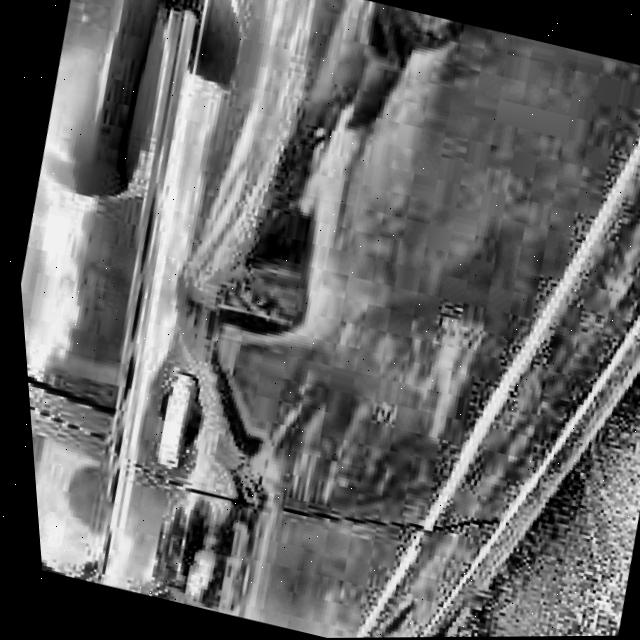door_dent: (173, 251, 365, 420)
